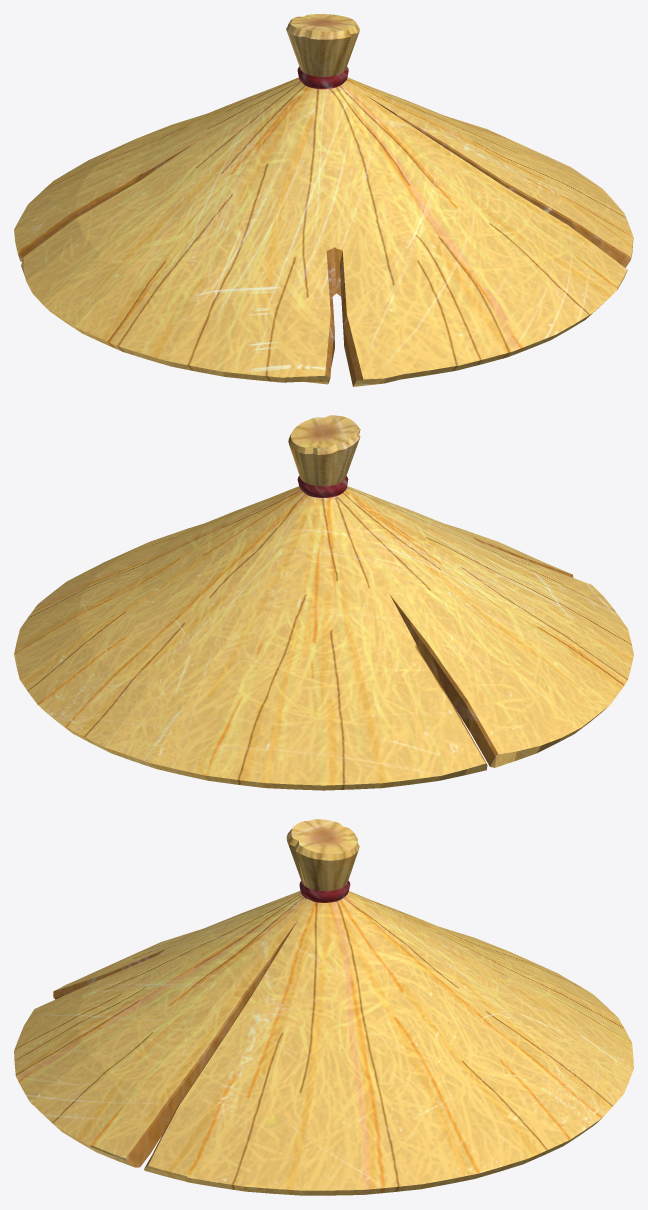
Rendered from asian_hat.fbx.
3 views of the same model, one above another, from view 1: azimuth 30°, elevation 25°; view 2: azimuth 150°, elevation 25°; view 3: azimuth 270°, elevation 25° (orthographic).
Visible parts, largest first — view 1: asian_hat; view 2: asian_hat; view 3: asian_hat.
Boxes of the visible parts, left/top/right/bottom form: asian_hat: left=14, top=14, right=633, bottom=386; asian_hat: left=14, top=415, right=633, bottom=790; asian_hat: left=14, top=819, right=633, bottom=1195.
Bounding box in the file's own units: 1.6 × 0.6995 × 1.6.
